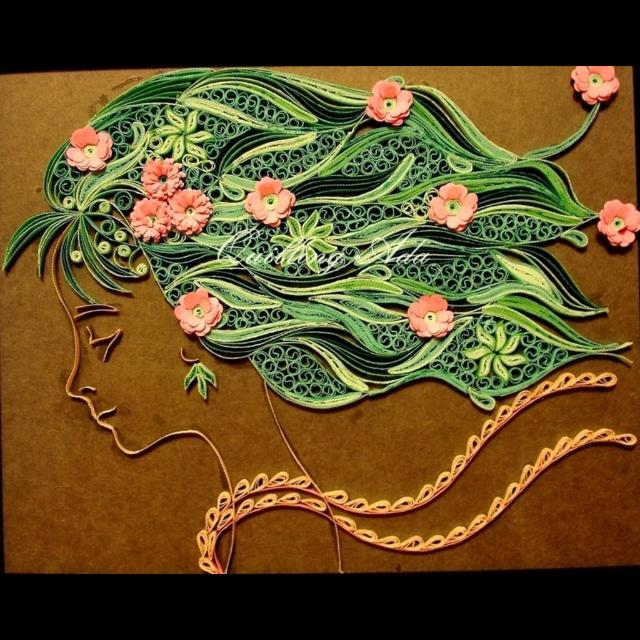Flower: (269, 209, 339, 273), (462, 321, 528, 381), (150, 106, 212, 164), (244, 175, 298, 229), (173, 290, 225, 340), (406, 288, 459, 336), (362, 78, 413, 125), (66, 124, 114, 170), (169, 188, 215, 236), (597, 198, 639, 250), (570, 66, 620, 108), (130, 196, 172, 244), (140, 157, 187, 199)
